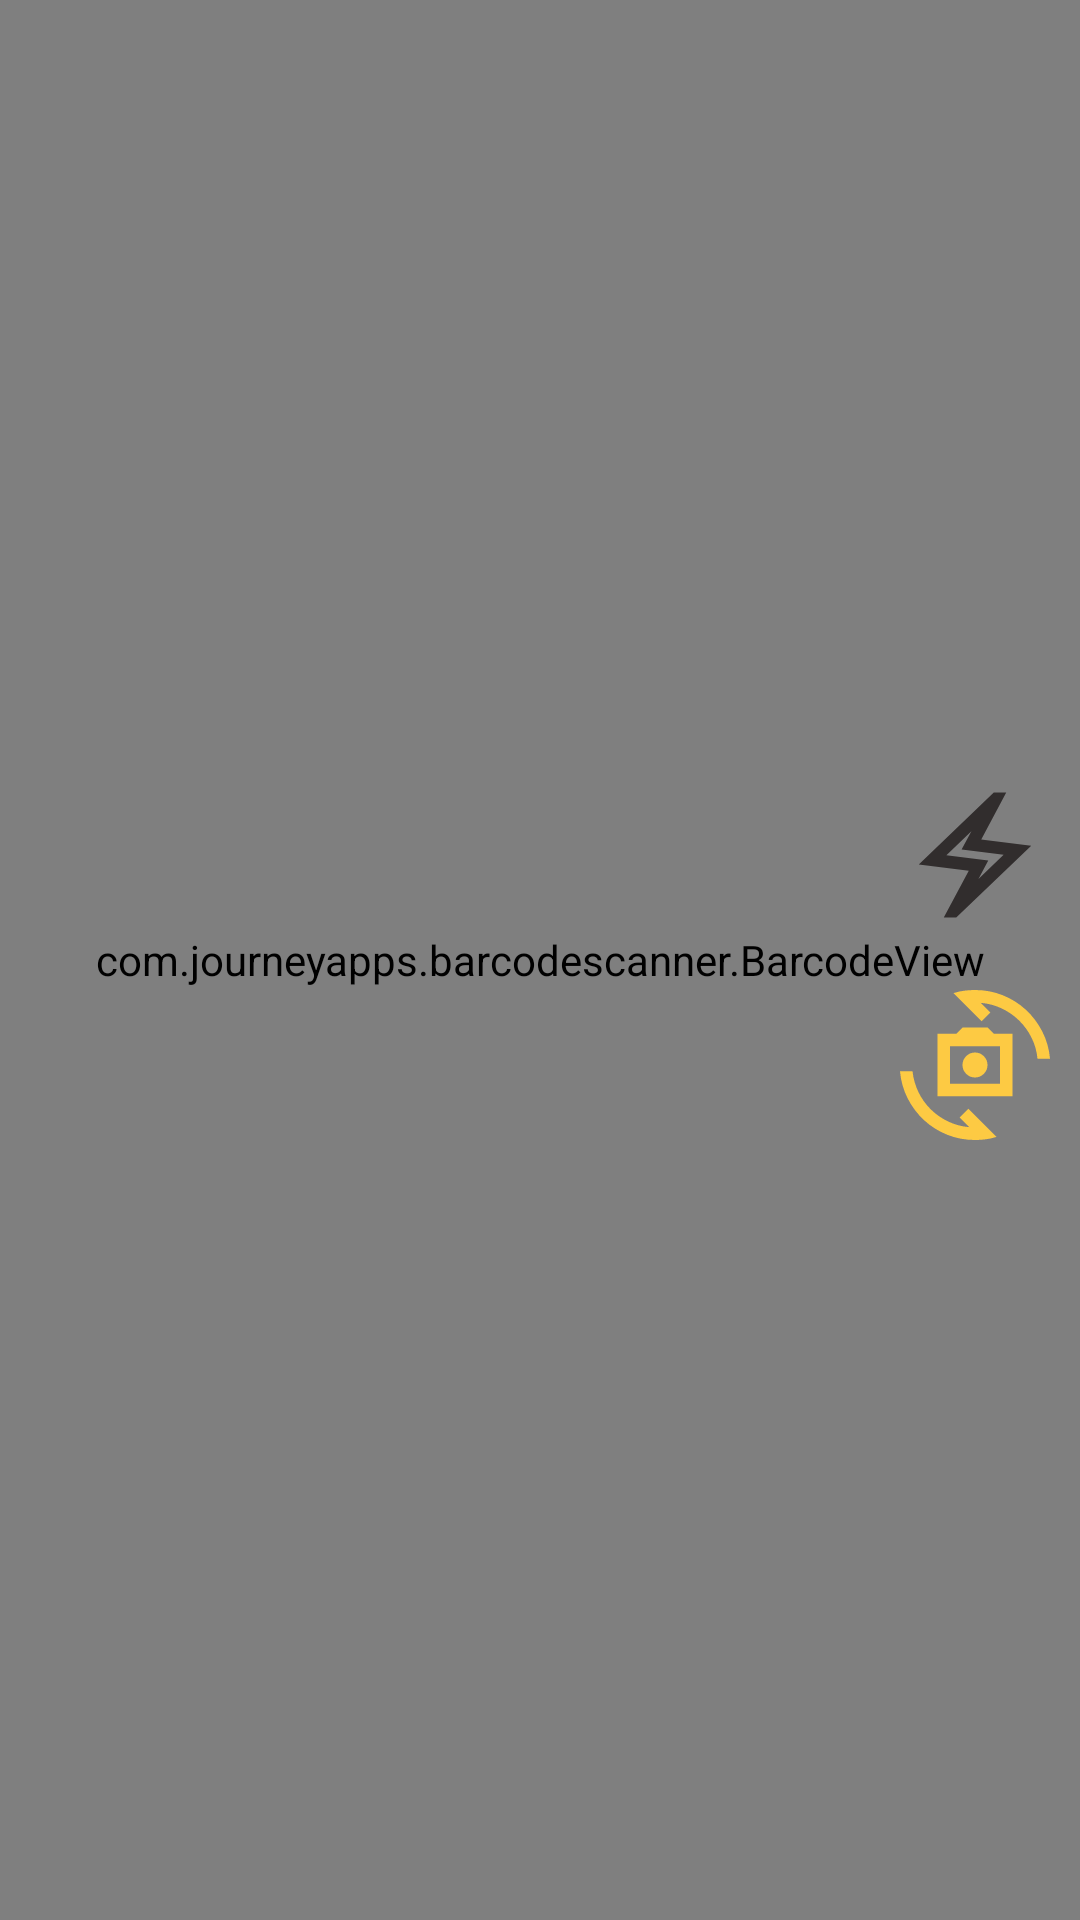

Icons on this 1080×1920 Android screen, each with its box as (x1=x1, y1=y1, x2=x2, y2=y2):
camera switch: (x1=900, y1=990, x2=1050, y2=1140)
flash off: (x1=919, y1=792, x2=1031, y2=918)
